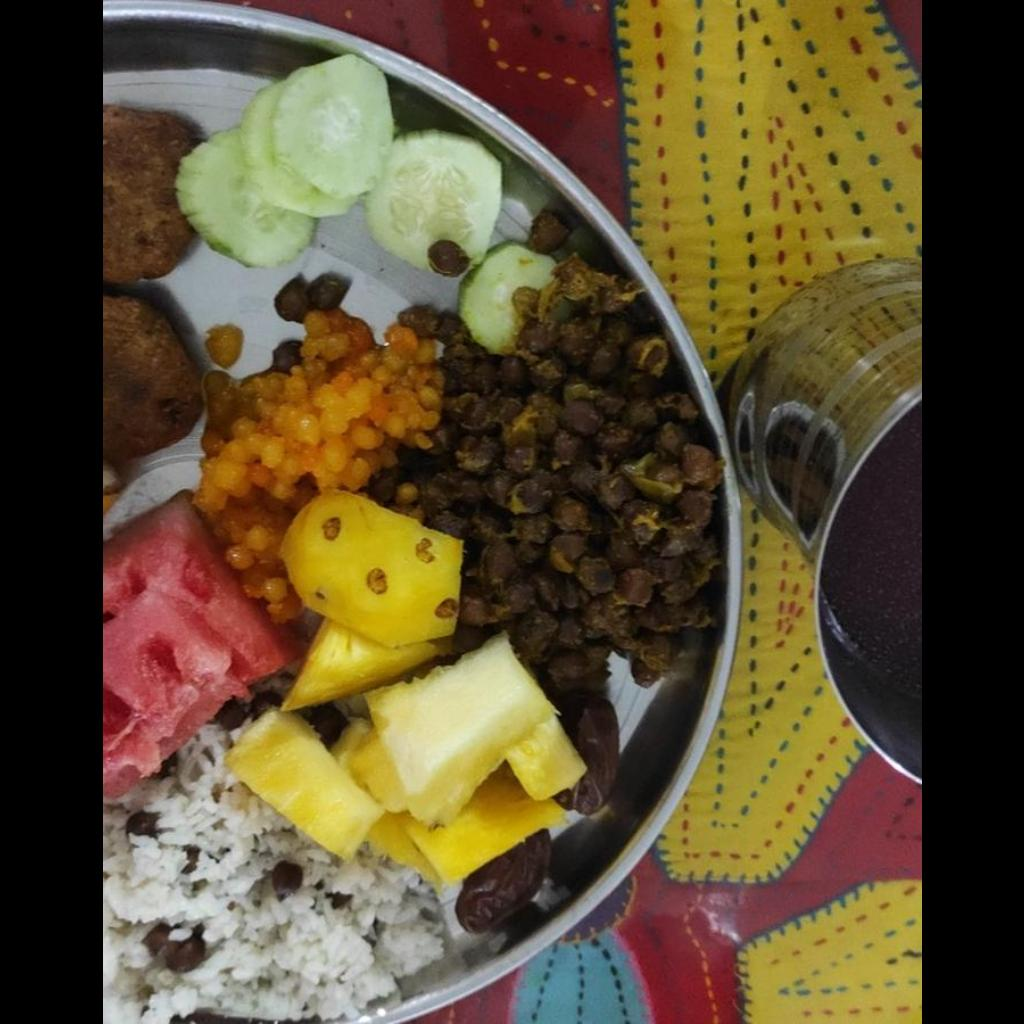burinda: (200, 321, 432, 614)
chola: (398, 209, 722, 690)
chop-alu: (104, 107, 204, 472)
cucumber: (173, 55, 498, 274)
pineapple: (227, 495, 589, 882)
watermelon: (107, 492, 275, 791)
